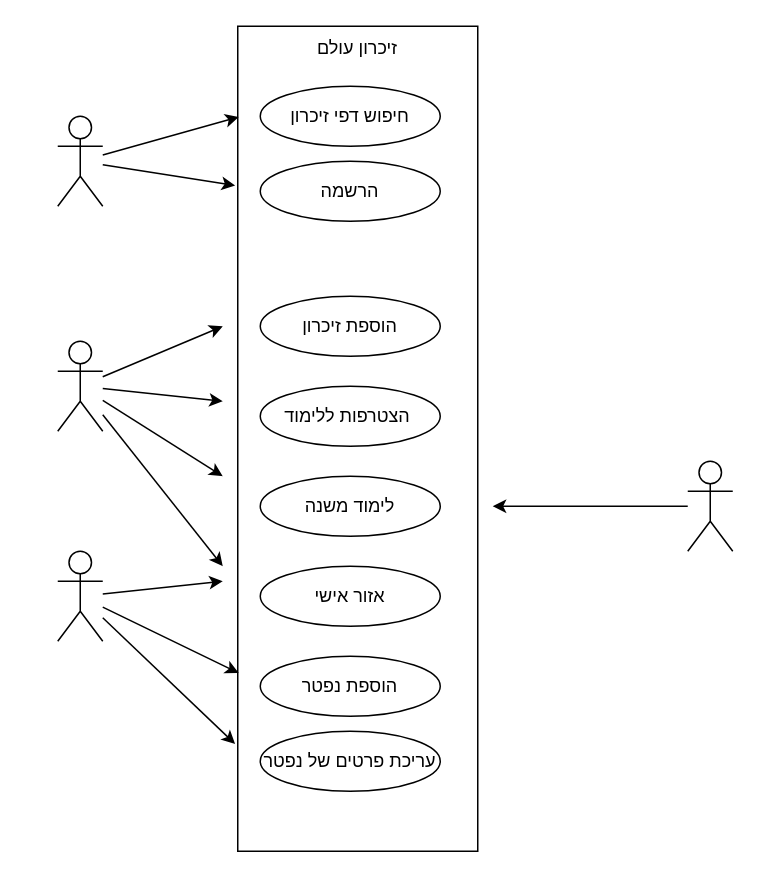
Some shapes in this 777 by 878 pixel diagram are drawn without their labels. Here are the shapes that lost their labels. From the top down, the centre of each, then its label:
At point (79, 160): "אורח".
At point (79, 385): "משתמש רשום".
At point (709, 505): "api משניות".
At point (79, 595): "מנהל".
